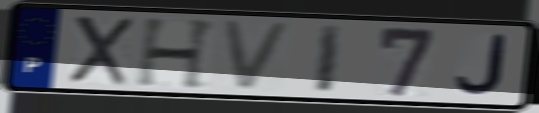7: (375, 24, 439, 100)
H: (132, 16, 221, 91)
I: (311, 22, 347, 95)
J: (452, 32, 509, 98)
V: (218, 18, 297, 93)
X: (65, 13, 136, 88)
